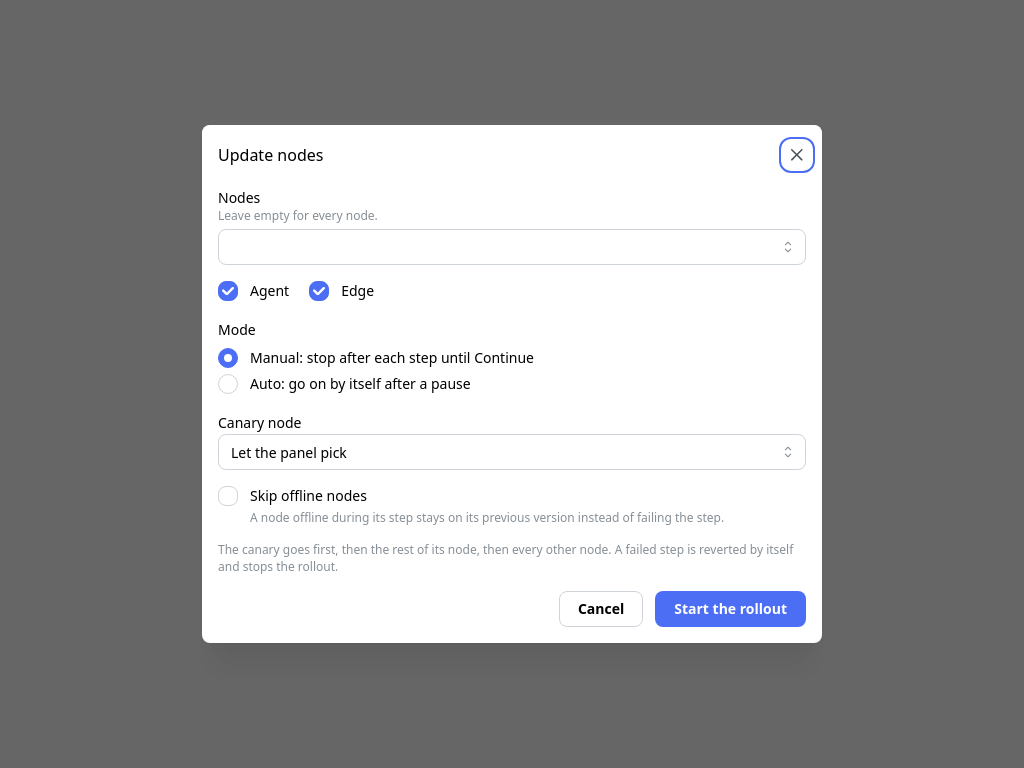
Test: RolloutDialog › refuses a node rollout of nothing
Step 1. Click the checkbox labelled "Agent" → (228, 291), box left=218, top=281, right=238, bottom=301
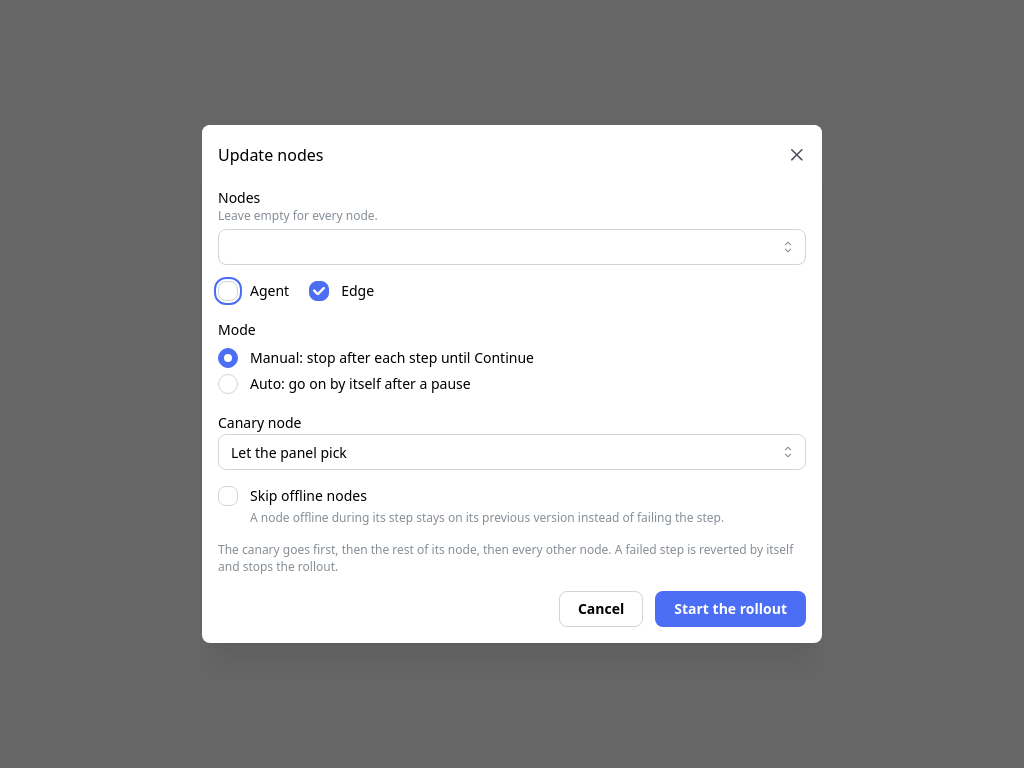
Step 2. Click the checkbox labelled "Edge" → (319, 291), box left=309, top=281, right=329, bottom=301
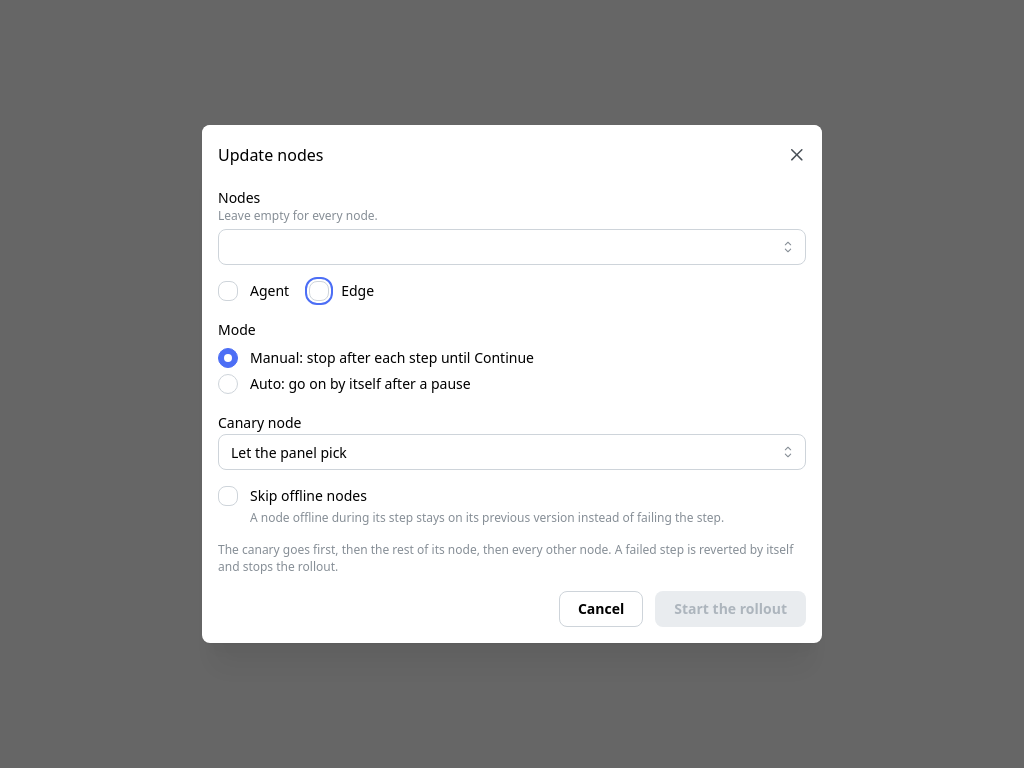
Expected: the button "Start the rollout" is disabled, left=655, top=591, right=806, bottom=627
